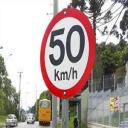speed_limit_50: (40, 7, 97, 99)
